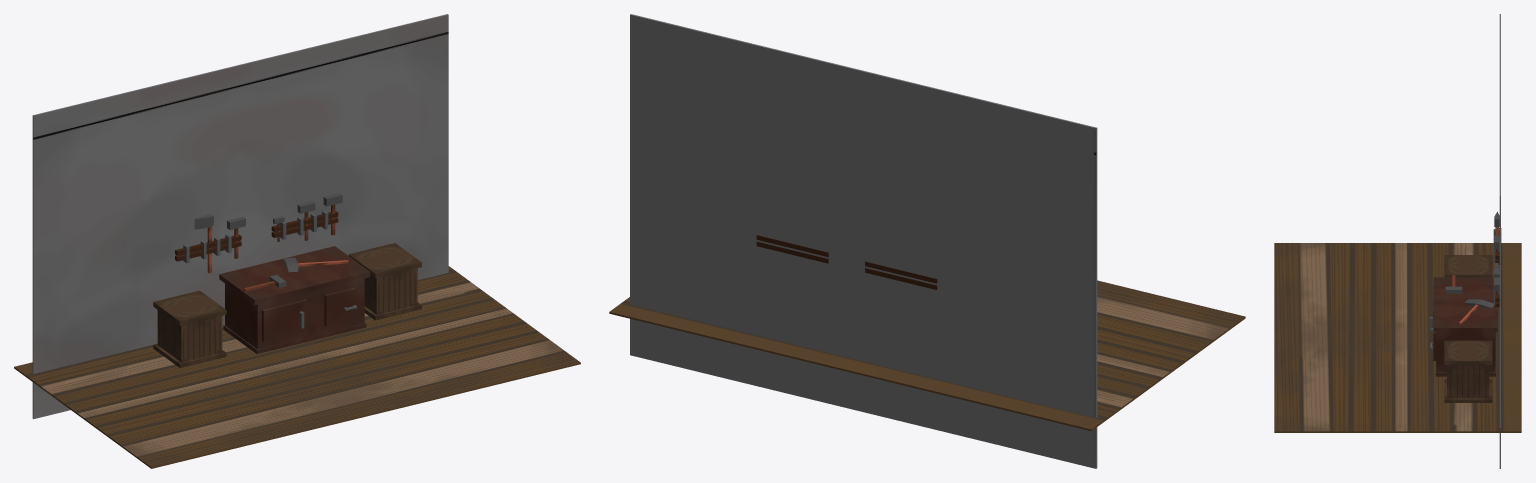
The model's file is test_room.glb.
The picture shows the model from 3 angles, left to right: view 1: azimuth 30°, elevation 25°; view 2: azimuth 150°, elevation 25°; view 3: azimuth 270°, elevation 25°; orthographic projection. The views are drawn at different scales.
Parts seen in each view (by area): view 1: Cube.002, Cube, Cube.011, Cube.001, Cube.013; view 2: Cube.002, Cube; view 3: Cube, Cube.011, Cube.013, Cube.001, Cube.002, Cube.023.
Boxes of the visible parts, left/top/right/bottom form: Cube.002: left=32, top=14, right=448, bottom=419; Cube: left=14, top=266, right=580, bottom=468; Cube.011: left=219, top=246, right=370, bottom=353; Cube.001: left=153, top=290, right=226, bottom=368; Cube.013: left=348, top=243, right=421, bottom=320; Cube.002: left=630, top=14, right=1097, bottom=468; Cube: left=609, top=280, right=1245, bottom=431; Cube: left=1274, top=243, right=1521, bottom=432; Cube.011: left=1429, top=277, right=1497, bottom=376; Cube.013: left=1444, top=340, right=1492, bottom=402; Cube.001: left=1444, top=255, right=1492, bottom=277; Cube.002: left=1499, top=14, right=1500, bottom=468; Cube.023: left=1459, top=299, right=1493, bottom=324.
Bounding box in the file's own units: 16.68 × 11.26 × 9.24.
Materials: 9 (7 with a texture image).
